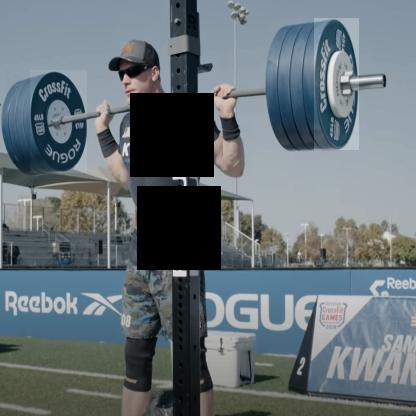barbell: (315, 20, 360, 152), (31, 71, 88, 174)
